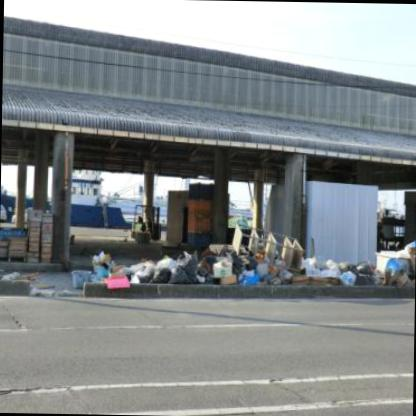car: (1, 194, 20, 247), (12, 206, 50, 225)
